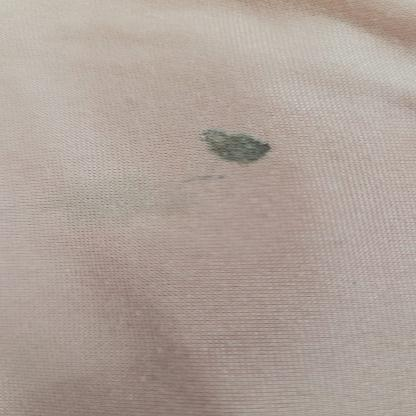spot: (184, 123, 283, 188)
